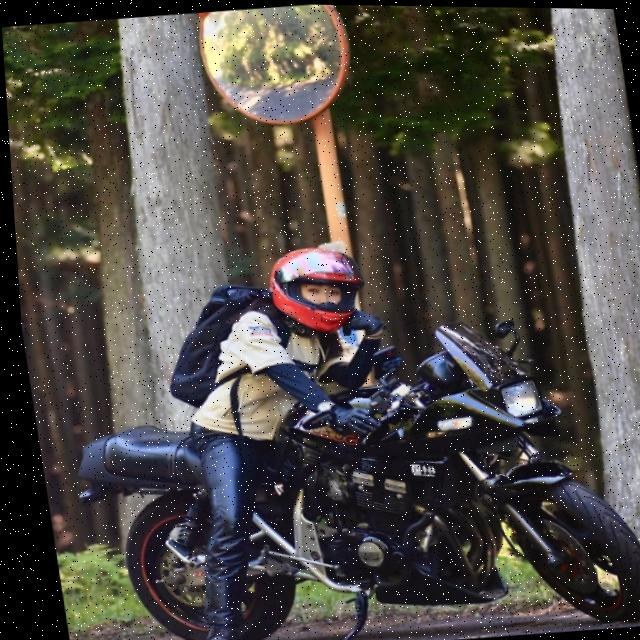helmet: (256, 238, 370, 340)
